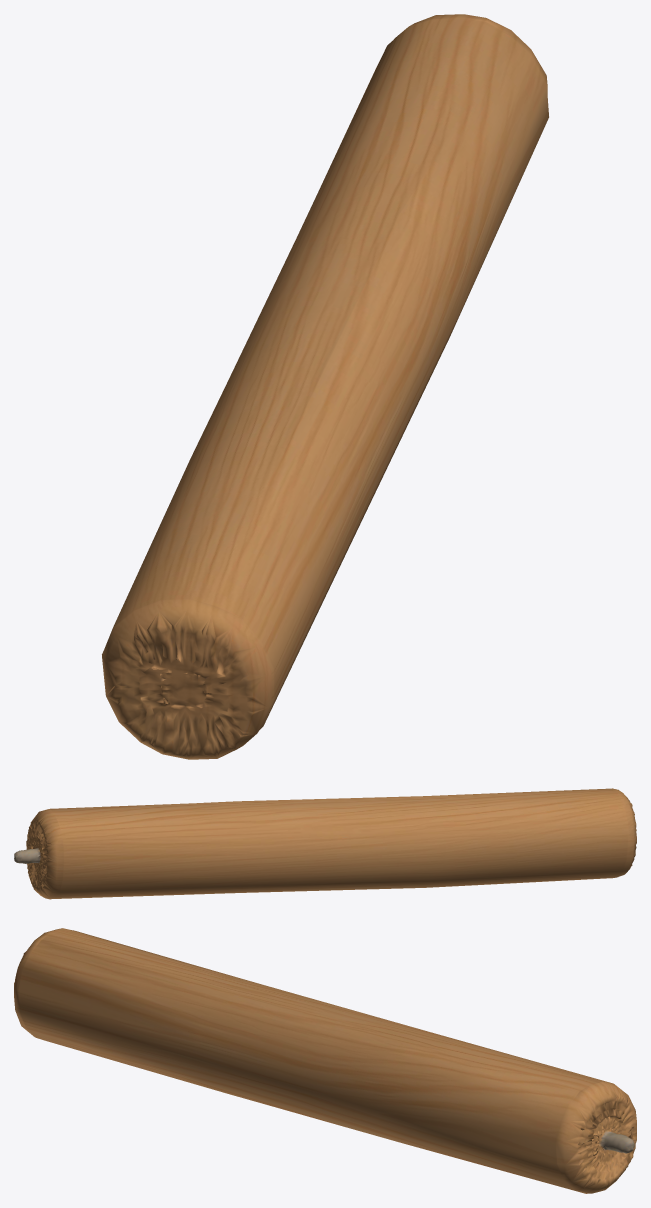
The picture shows the model from 3 angles, top to bottom: view 1: azimuth 30°, elevation 25°; view 2: azimuth 150°, elevation 25°; view 3: azimuth 270°, elevation 25°; orthographic projection. The views are drawn at different scales.
Visible parts, largest first — view 1: tripo_node_3e4d7c48-59c4-473c-9881-07c736659c07; view 2: tripo_node_3e4d7c48-59c4-473c-9881-07c736659c07; view 3: tripo_node_3e4d7c48-59c4-473c-9881-07c736659c07.
Part boxes in pixels (bbox=[...]): tripo_node_3e4d7c48-59c4-473c-9881-07c736659c07: bbox=[102, 14, 548, 759]; tripo_node_3e4d7c48-59c4-473c-9881-07c736659c07: bbox=[14, 788, 636, 899]; tripo_node_3e4d7c48-59c4-473c-9881-07c736659c07: bbox=[14, 928, 636, 1193].
Bounding box in the file's own units: 0.9629 × 0.291 × 0.998.
1 material, 1 textured.
